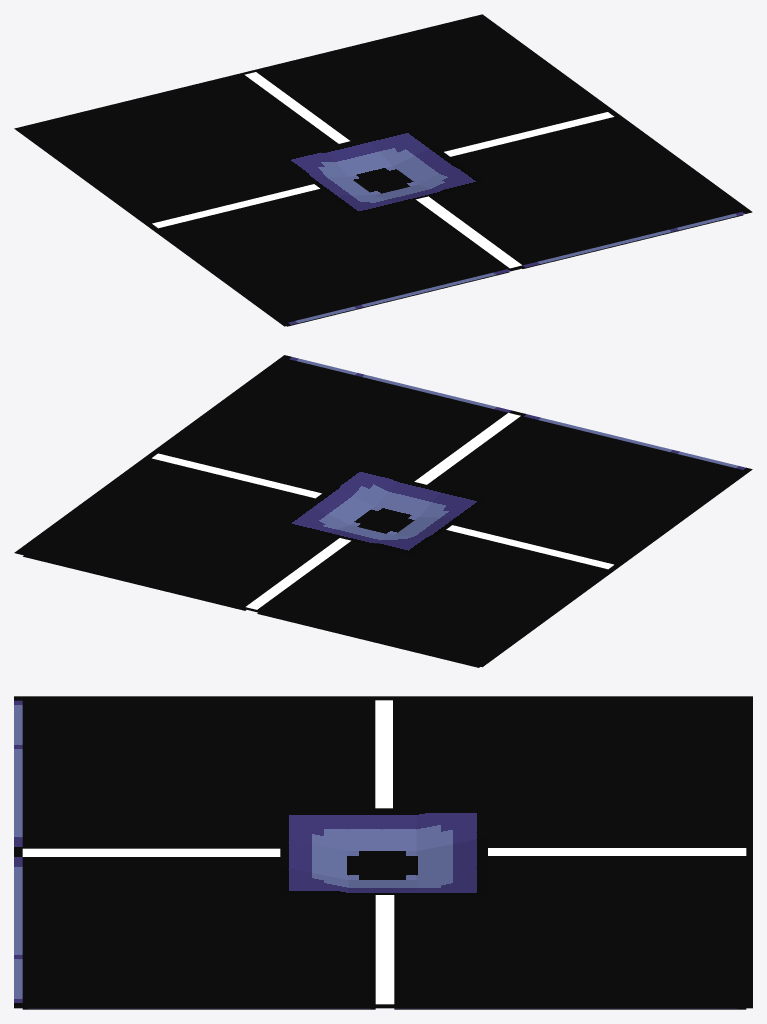
File: Ceiling_Pod.glb
3 renders of one model, top to bottom at view 1: azimuth 30°, elevation 25°; view 2: azimuth 150°, elevation 25°; view 3: azimuth 270°, elevation 25°, orthographic. The views are drawn at different scales.
Parts seen in each view (by area): view 1: Ceiling_Pod; view 2: Ceiling_Pod; view 3: Ceiling_Pod.
Boxes of the visible parts, x1,y1,x2,y2 form: Ceiling_Pod: (14,14,752,326); Ceiling_Pod: (14,355,752,667); Ceiling_Pod: (14,696,752,1009).
Size of the model in its own units: 5 by 0.1024 by 5.
Materials: 2 (1 with a texture image).
